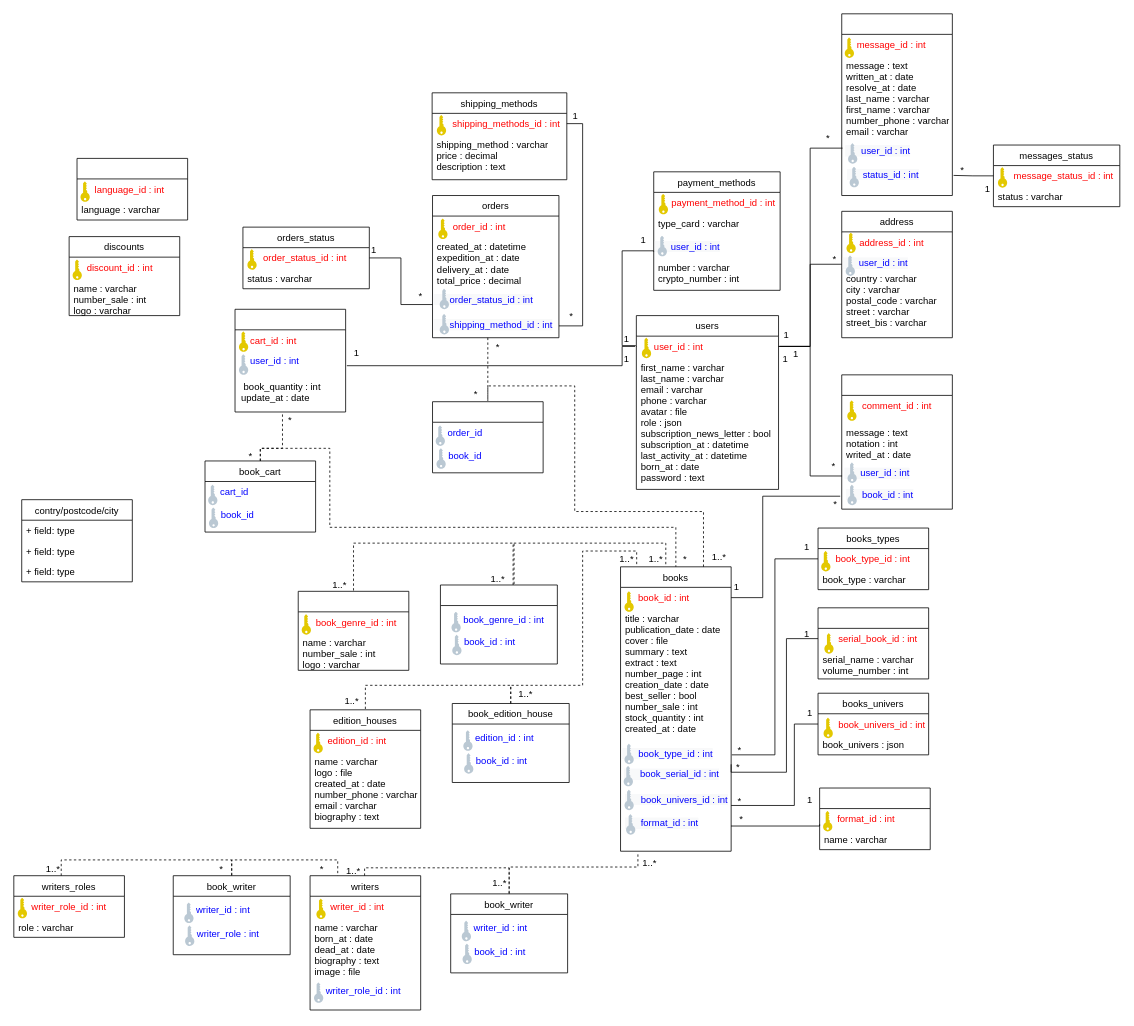
Some shapes in this 1134 by 1026 pixel diagram are drawn without their labels. Each missing label, with the box of its shape:
book_book_genre: (440, 584, 557, 664)
book_format: (819, 787, 930, 850)
book_order: (432, 401, 543, 473)
books_genres: (297, 591, 409, 670)
carts: (234, 308, 346, 412)
comments: (841, 374, 952, 509)
language_books: (76, 158, 188, 220)
messages: (841, 13, 952, 196)
serial_books: (817, 607, 929, 679)
